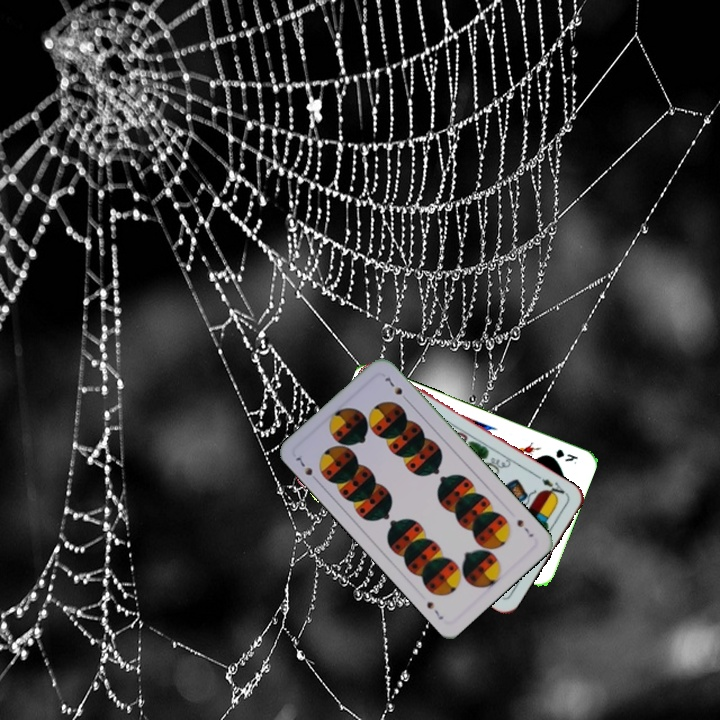EA: (537, 474, 570, 501)
GK: (552, 445, 580, 464)
S7: (291, 453, 321, 485), (513, 515, 536, 540)
